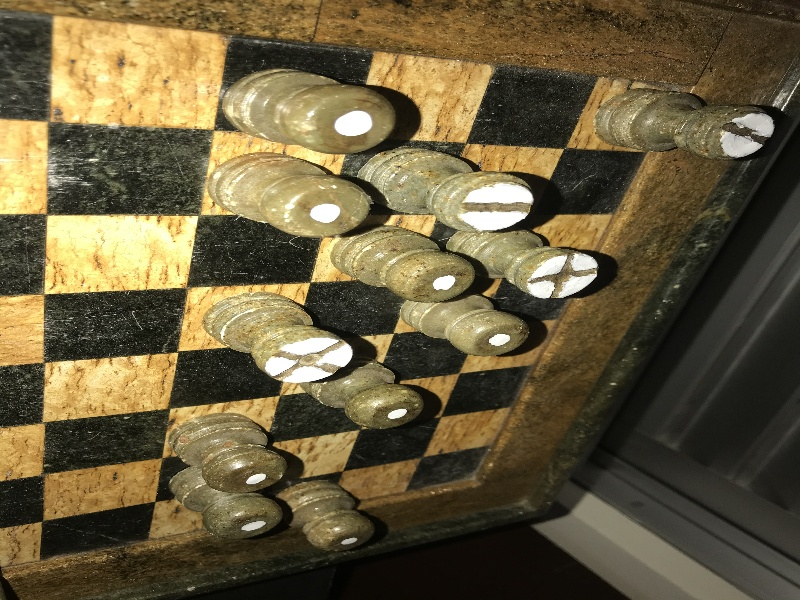WhiteBishop: (202, 294, 352, 383), (446, 231, 599, 299)
WhitePawn: (223, 69, 395, 154), (211, 153, 369, 237), (328, 225, 477, 303), (167, 415, 285, 492), (303, 359, 422, 429), (402, 292, 530, 356), (167, 470, 282, 540), (275, 482, 374, 552)
WhiteRook: (359, 148, 533, 232), (597, 87, 774, 161)
